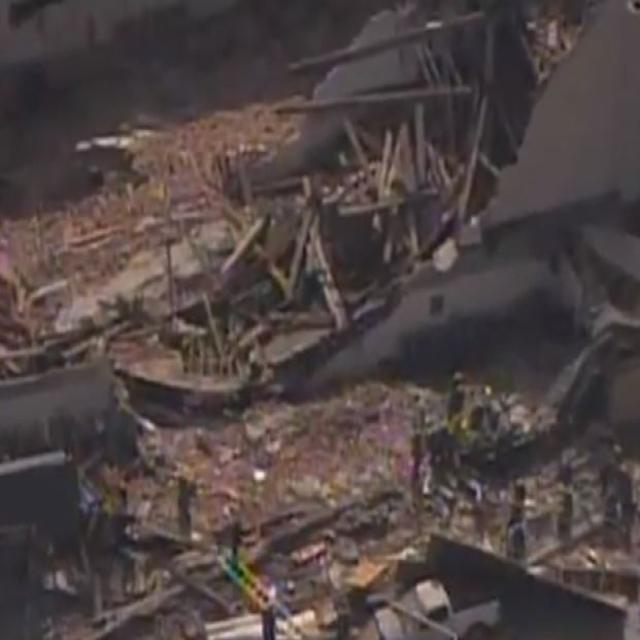collapsed_building: (120, 11, 584, 397)
